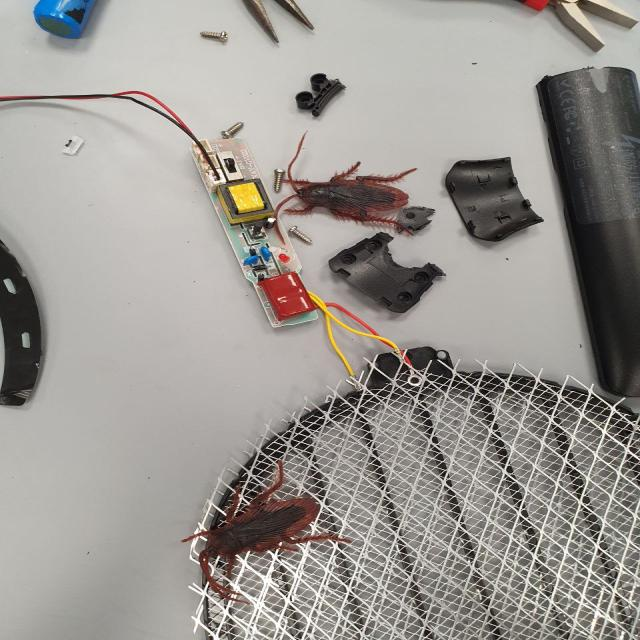Cockroach: (165, 457, 342, 585), (258, 136, 420, 240)
